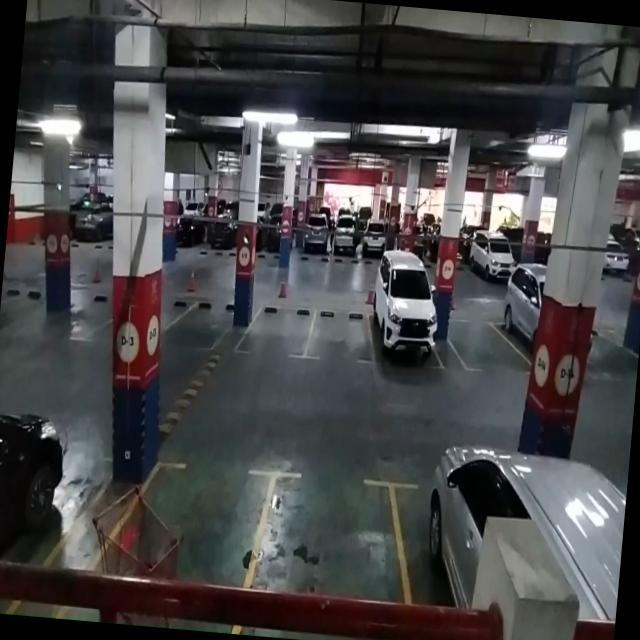empty: (245, 468, 415, 602), (446, 316, 528, 376), (243, 300, 312, 359), (306, 304, 374, 363), (177, 296, 235, 354)
occupied: (367, 286, 443, 368)
